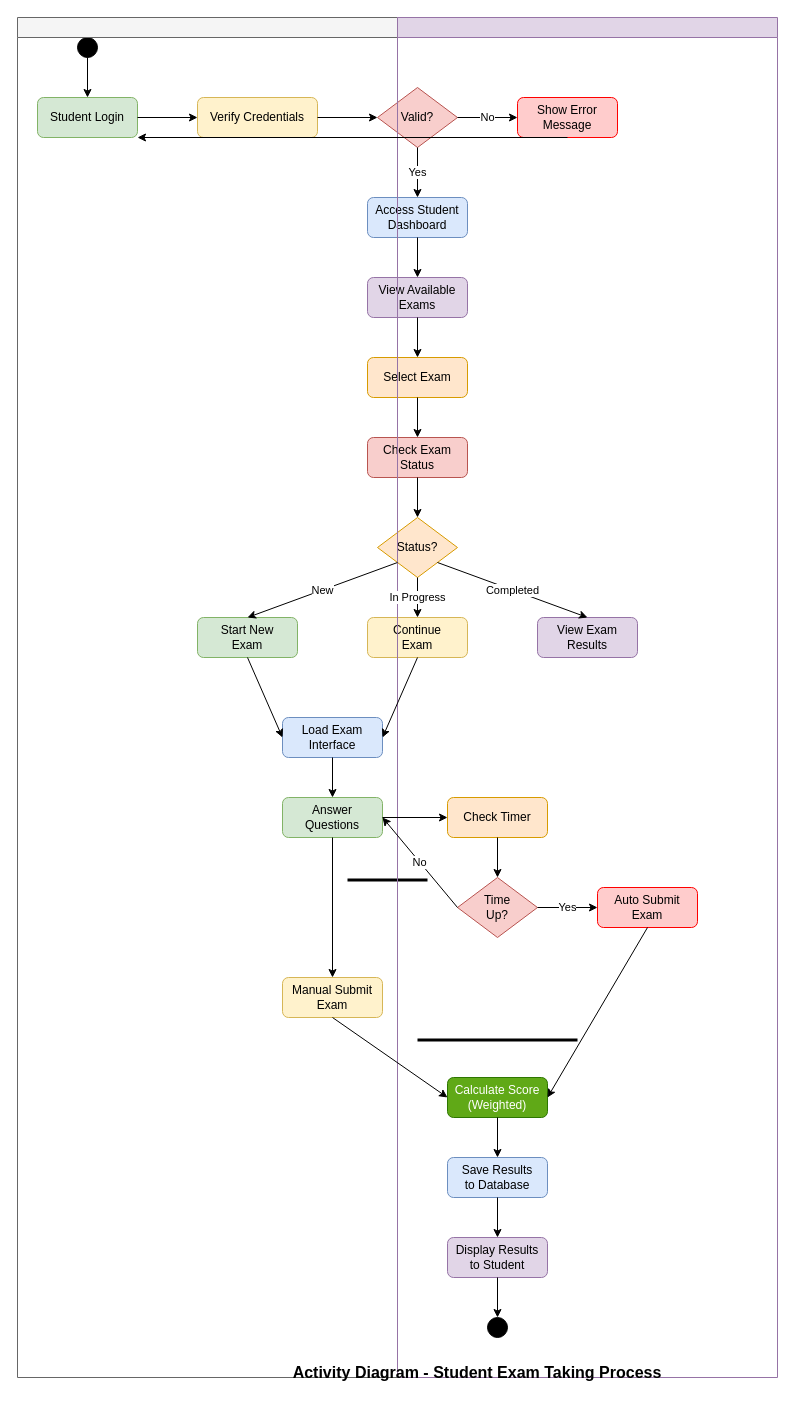
Image size: 795x1405. Some labels were removed from this diagram. Each missing label, with the box of its shape:
Student: (16, 16, 398, 1378)
System: (396, 16, 778, 1378)
